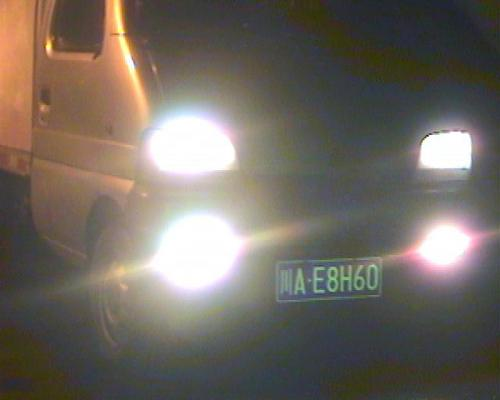Carplate: (273, 257, 390, 305)
